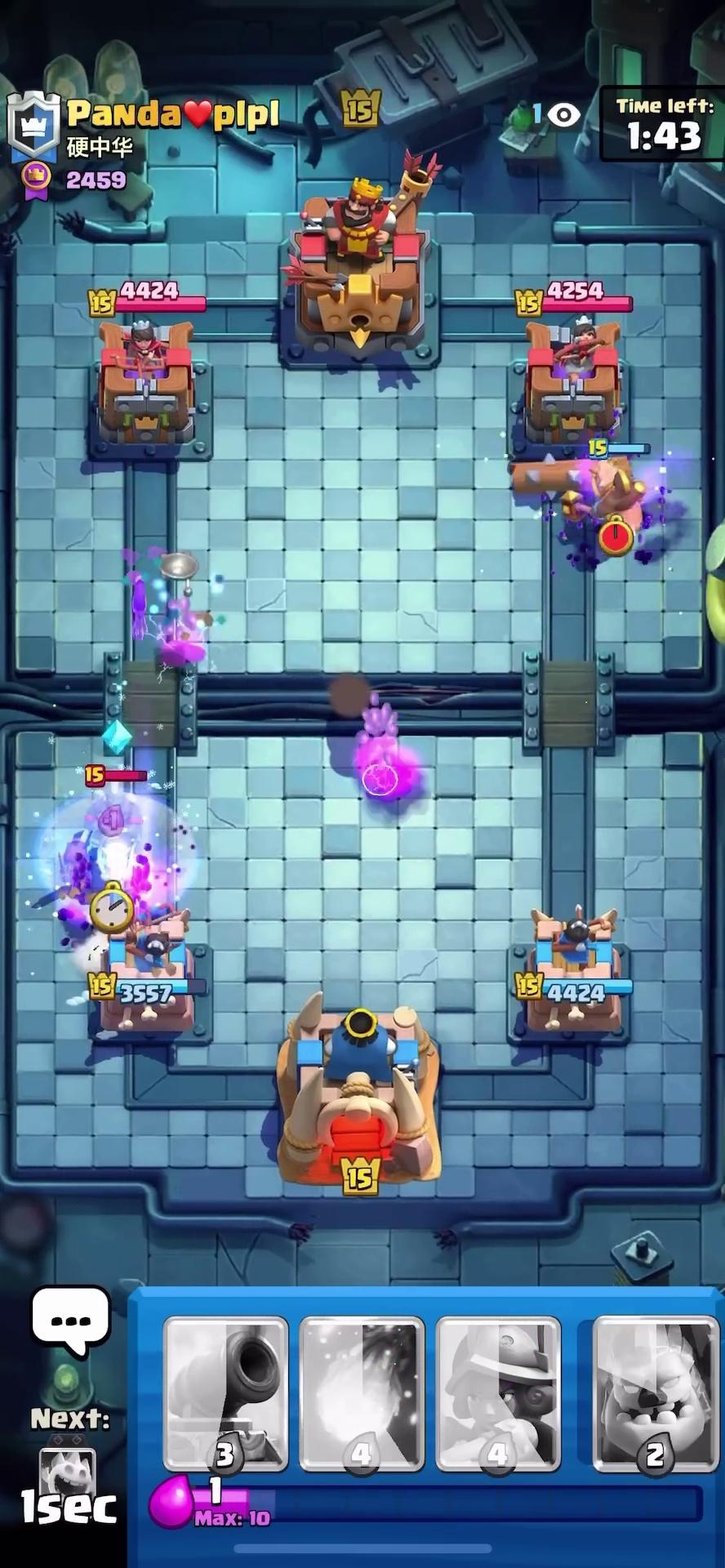hog_rider: (551, 437, 674, 555)
log: (508, 451, 651, 496)
